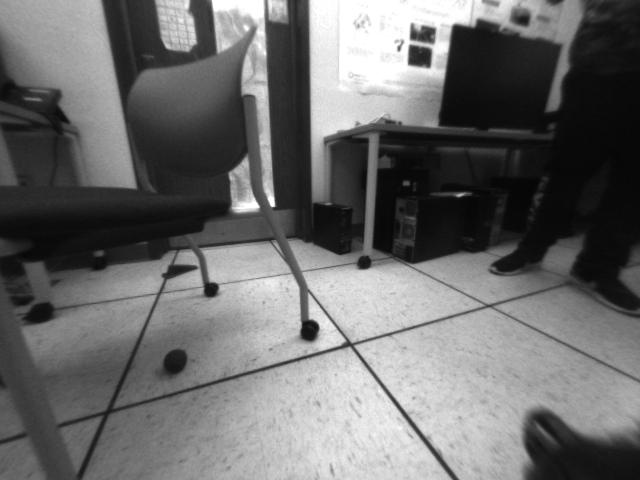dogtoy: (158, 341, 192, 380)
